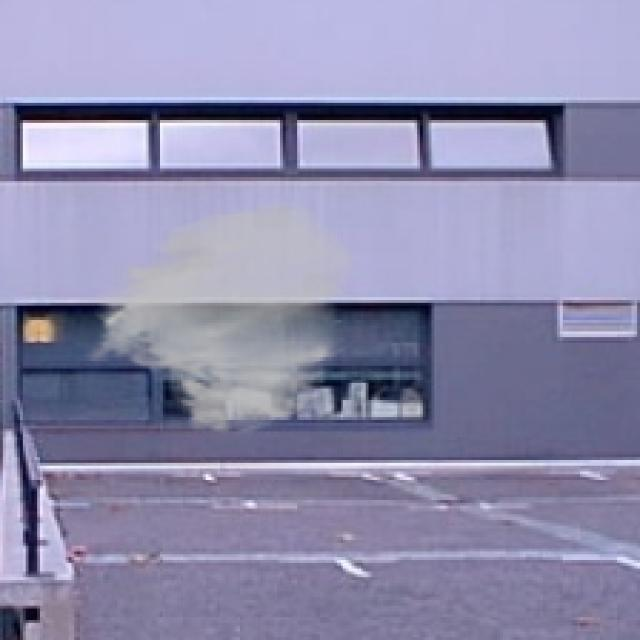Smoke: (83, 200, 360, 437)
